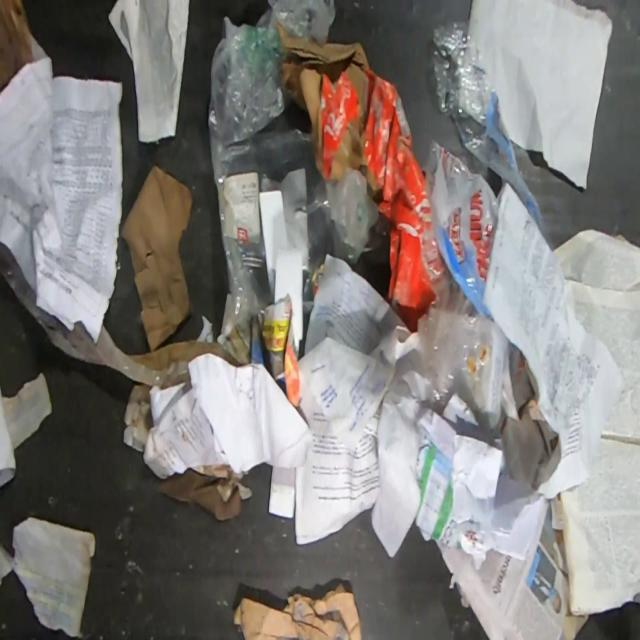cardboard: (277, 22, 436, 329), (232, 582, 362, 640)
soft_plastic: (208, 0, 380, 362), (419, 17, 553, 417), (0, 240, 188, 390)
